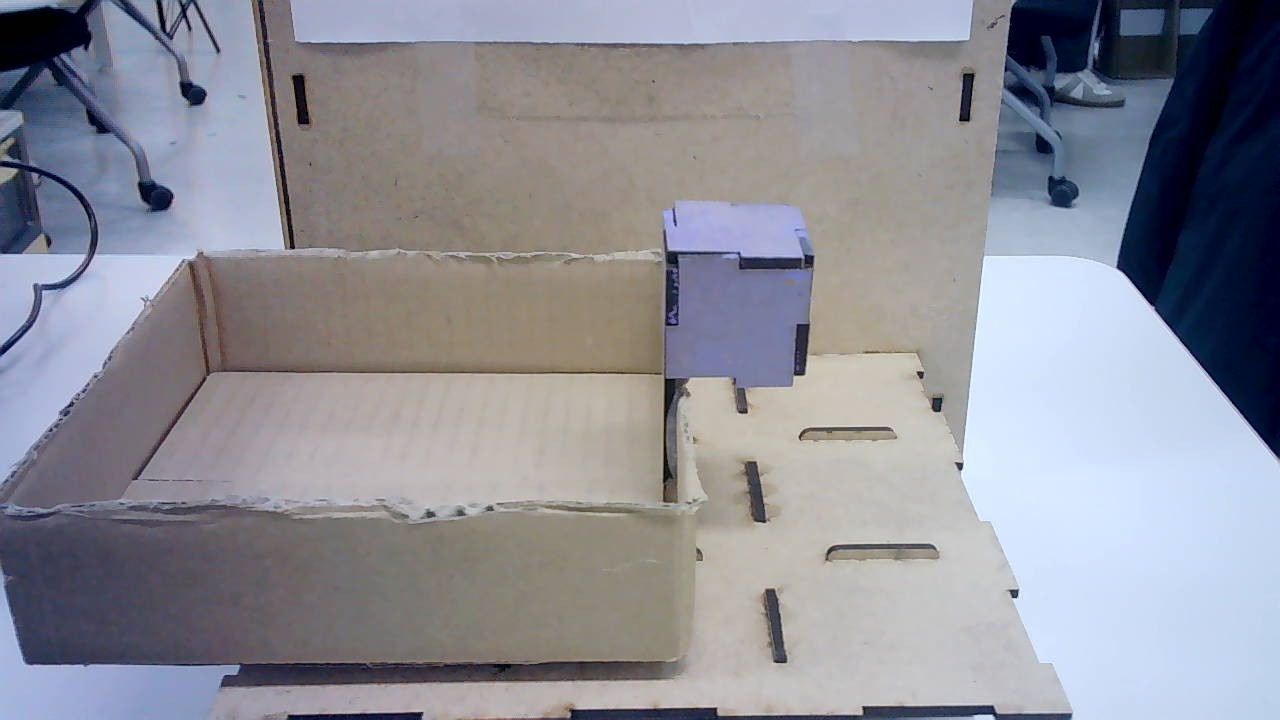pulple box: (657, 197, 814, 392)
